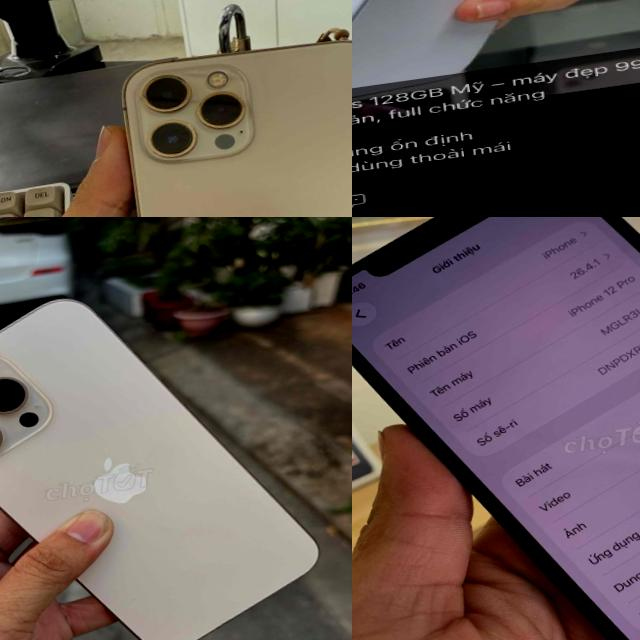gen_12_13: (352, 217, 640, 640), (110, 23, 352, 217)
gen_15: (352, 0, 640, 127)
gen_16: (0, 260, 340, 640)
